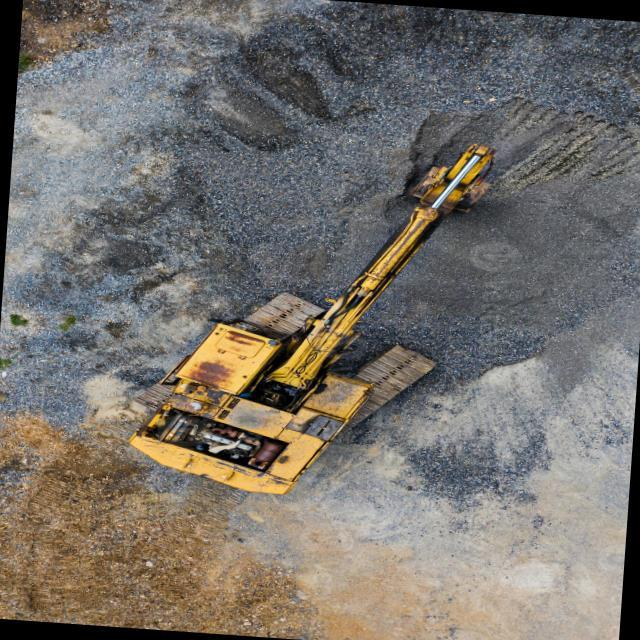excavator: (126, 145, 490, 497)
